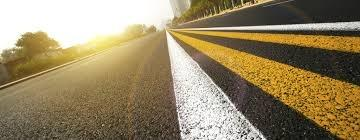road: (173, 31, 359, 138), (0, 31, 179, 138), (177, 0, 359, 27)
